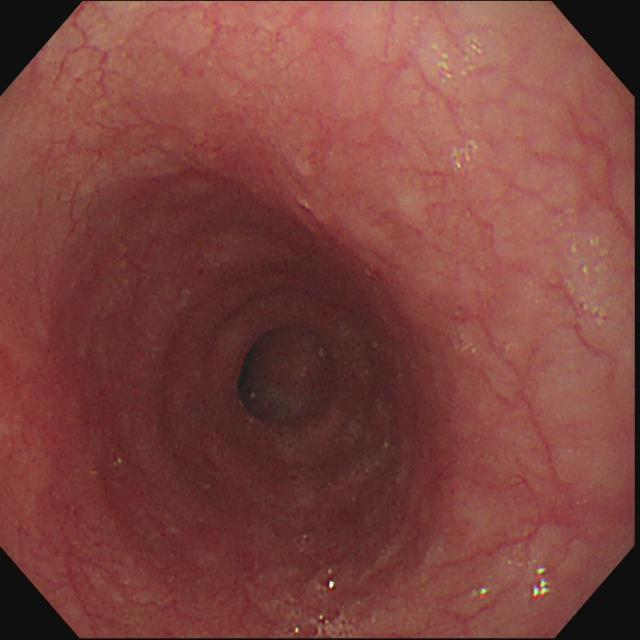E: (229, 319, 343, 439)
T: (297, 565, 360, 637)
U: (530, 566, 551, 600)
